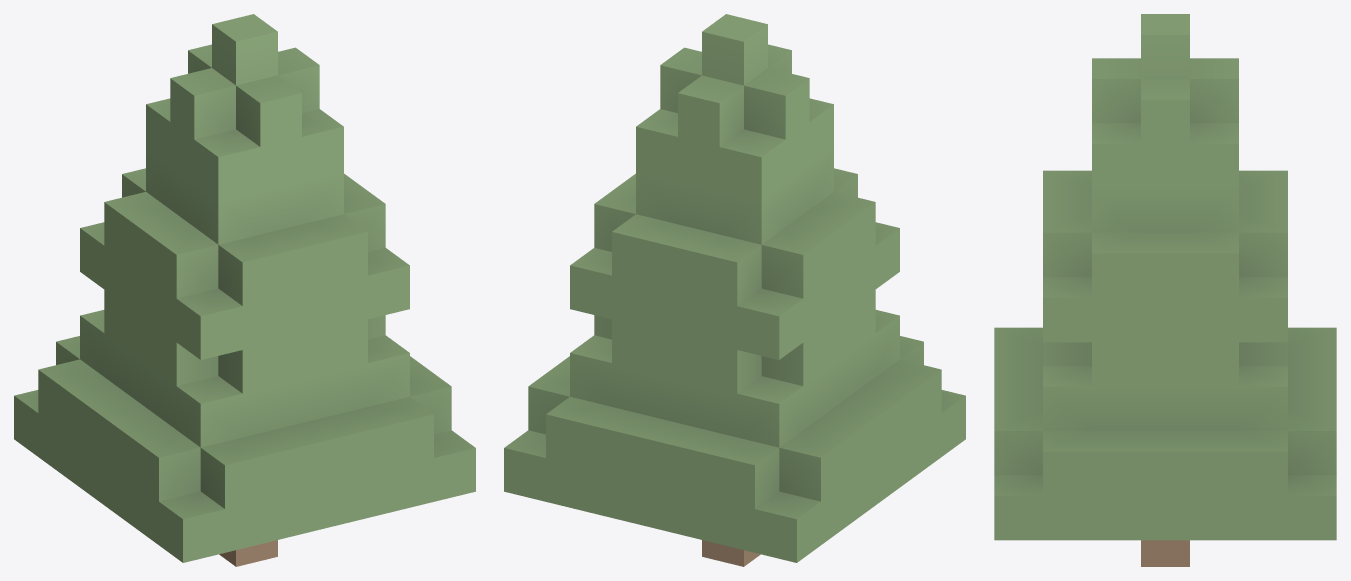
The model's file is decor_tree_c.glb.
3 views of the same model, side by side, from view 1: azimuth 30°, elevation 25°; view 2: azimuth 150°, elevation 25°; view 3: azimuth 270°, elevation 25° (orthographic).
Visible parts, largest first — view 1: decor_tree_c; view 2: decor_tree_c; view 3: decor_tree_c.
Part boxes in pixels (x1,y1,x2,y2): decor_tree_c: (14,14,475,566); decor_tree_c: (504,14,965,566); decor_tree_c: (994,14,1336,566).
Size of the model in its own units: 0.875 by 1.5 by 0.875.
